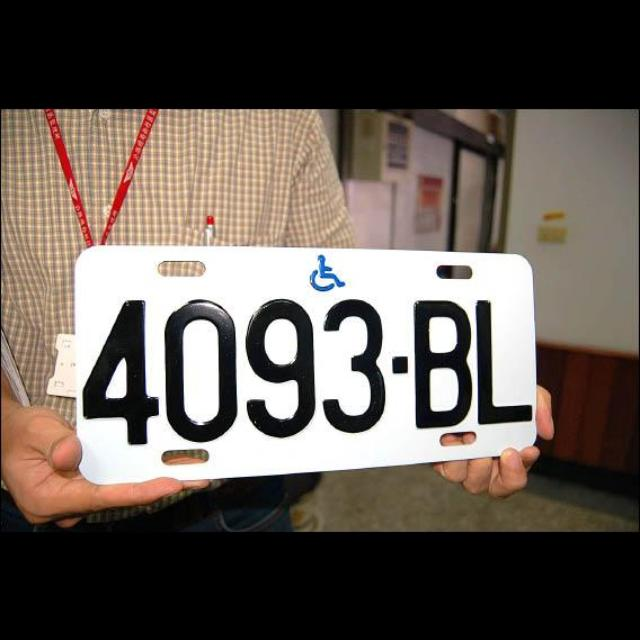plate: (75, 246, 536, 484)
